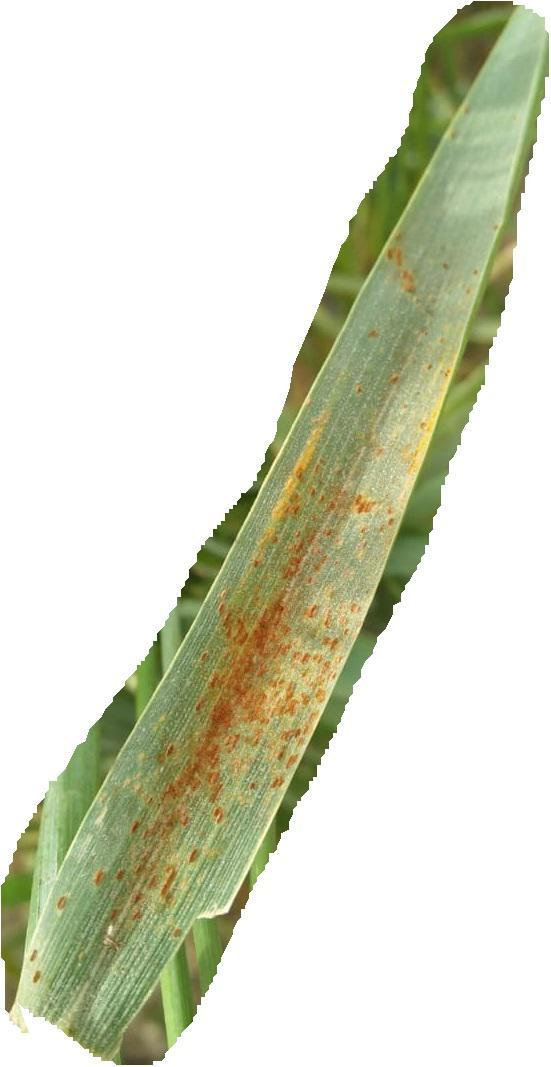Wheat: (58, 731, 298, 927), (211, 582, 362, 734), (301, 402, 397, 557)
